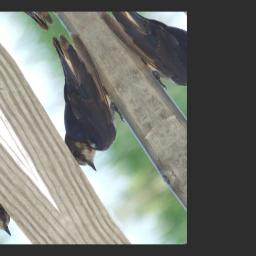Swallow: (11, 24, 147, 179)
